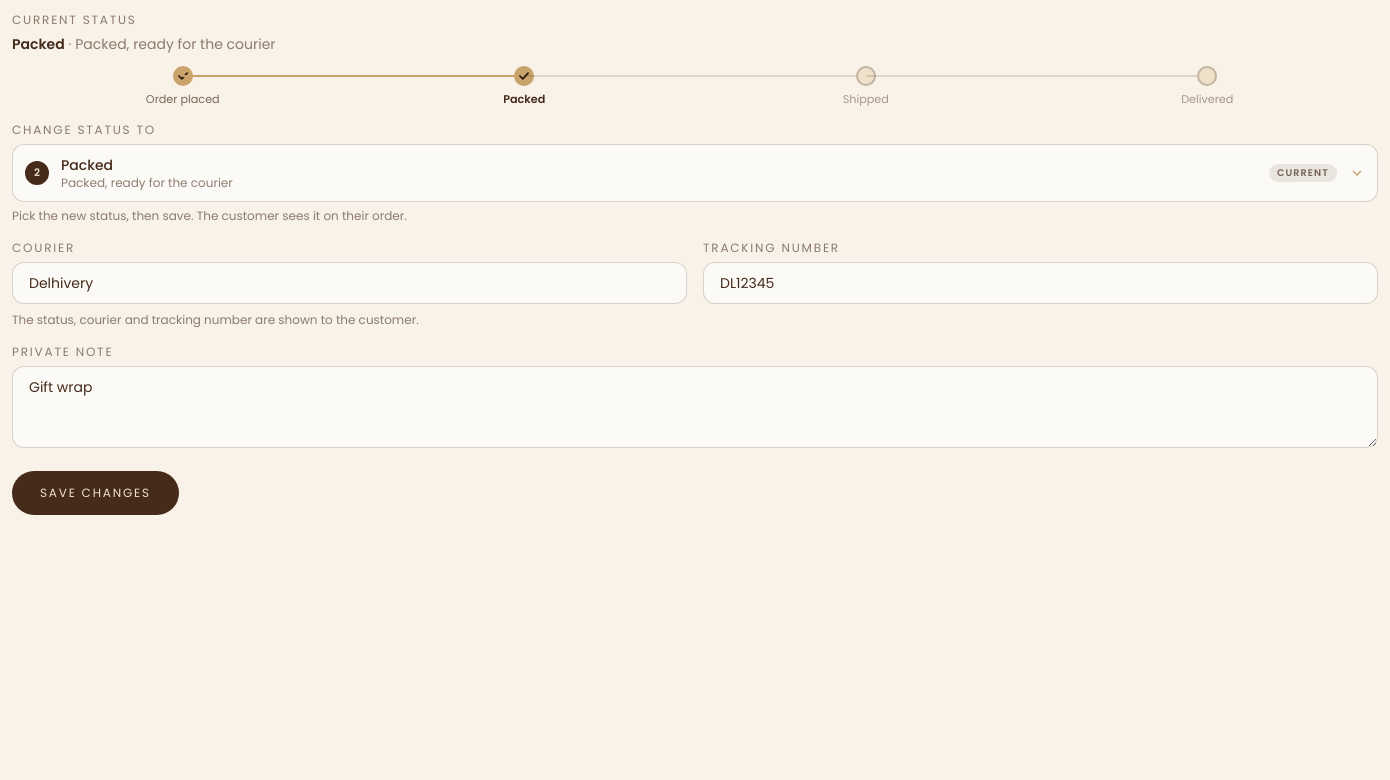
OrderUpdateForm › saving sends every field and says Saved
Step 1. Click the dropdown named "Change status to" → (87, 165), box [12,144,1378,202]
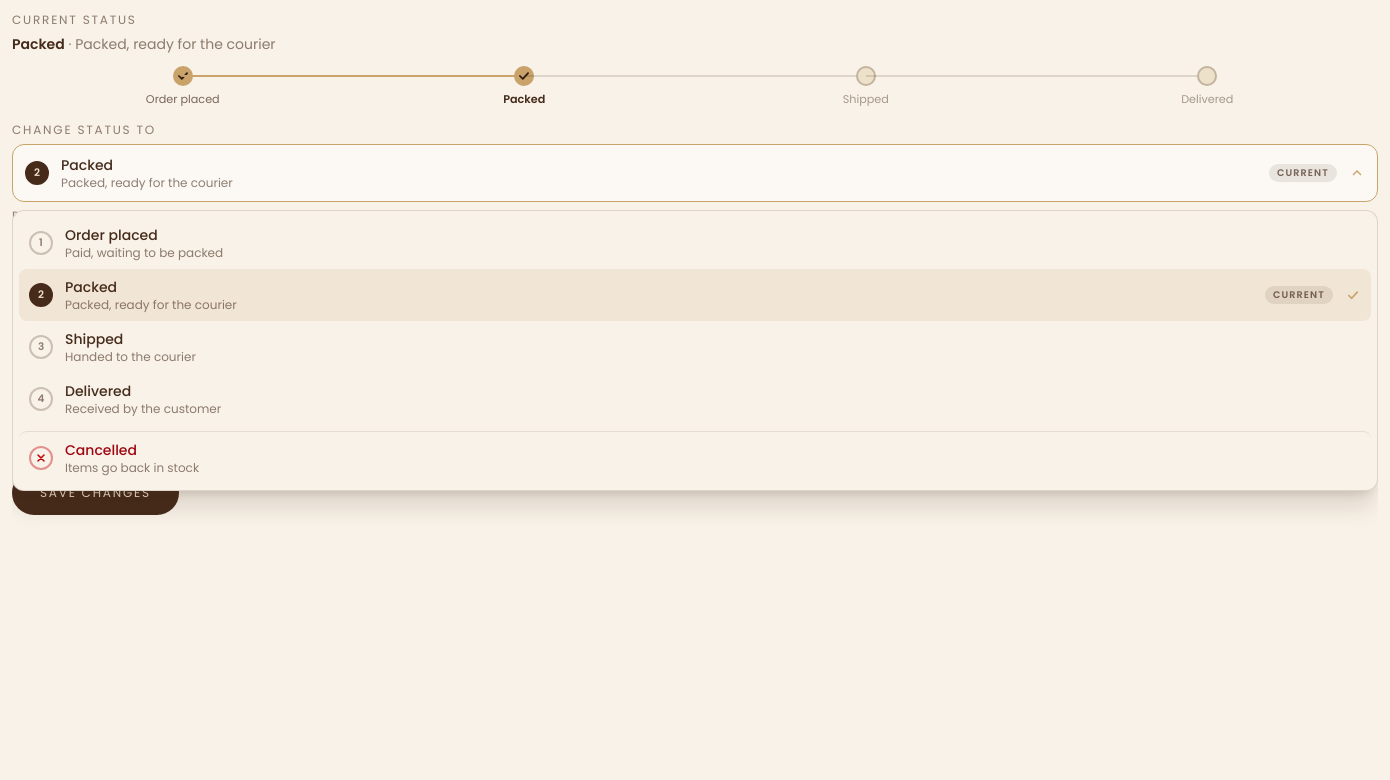
Step 2. Click the option "3 Shipped Handed to the courier" → (112, 347), box [29,329,196,365]
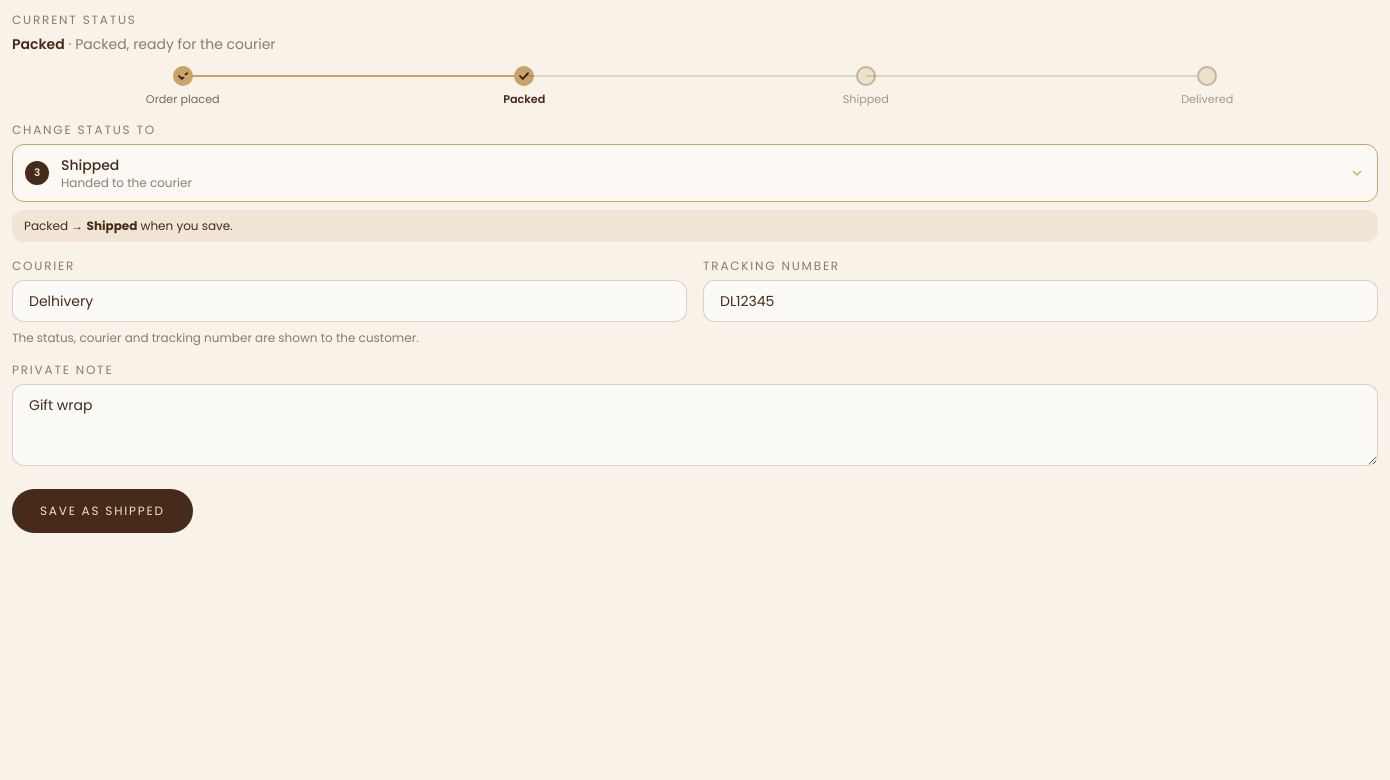
Step 3. Replace the text in the field labelled "Tracking number" with "DL-99887" → (1040, 301), box [703,280,1378,322]
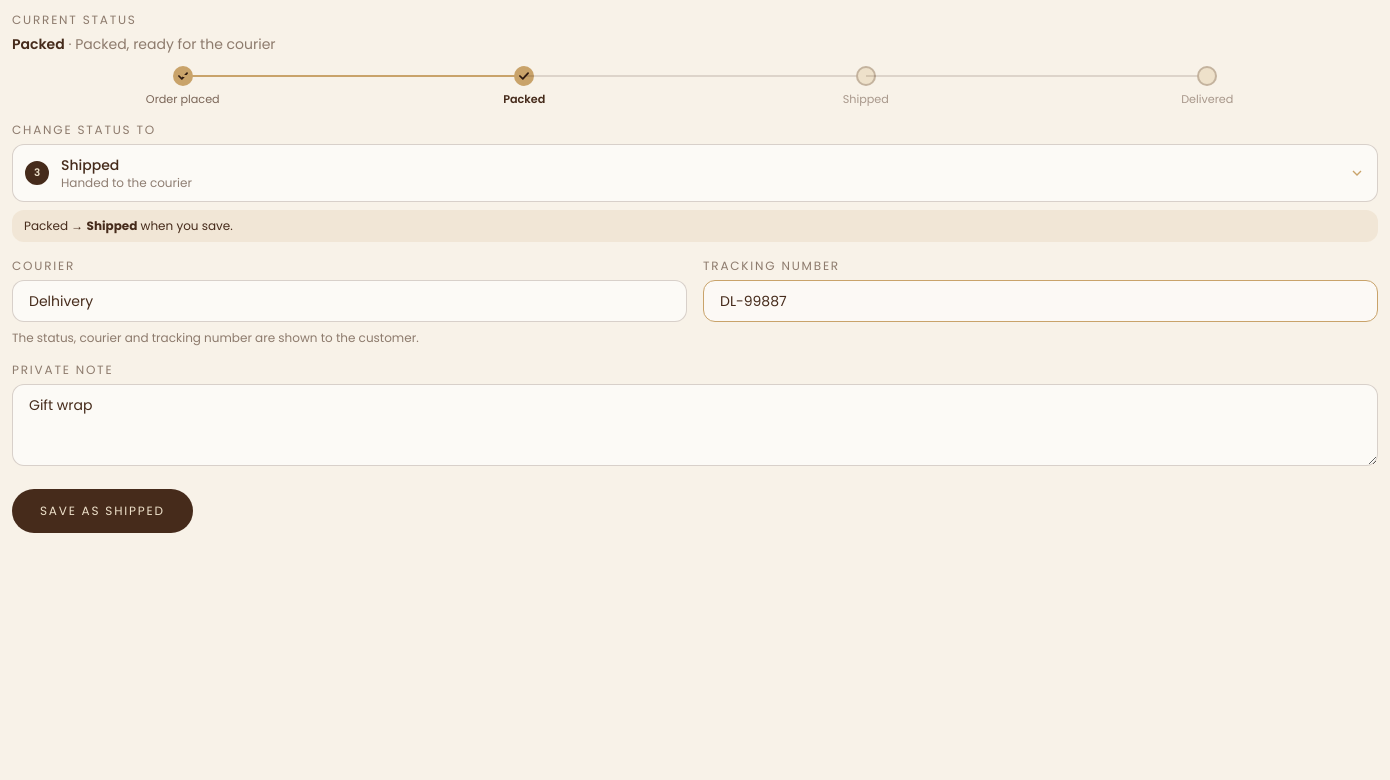
Step 4. Click the button "Save as Shipped" → (102, 511), box [12,489,193,533]
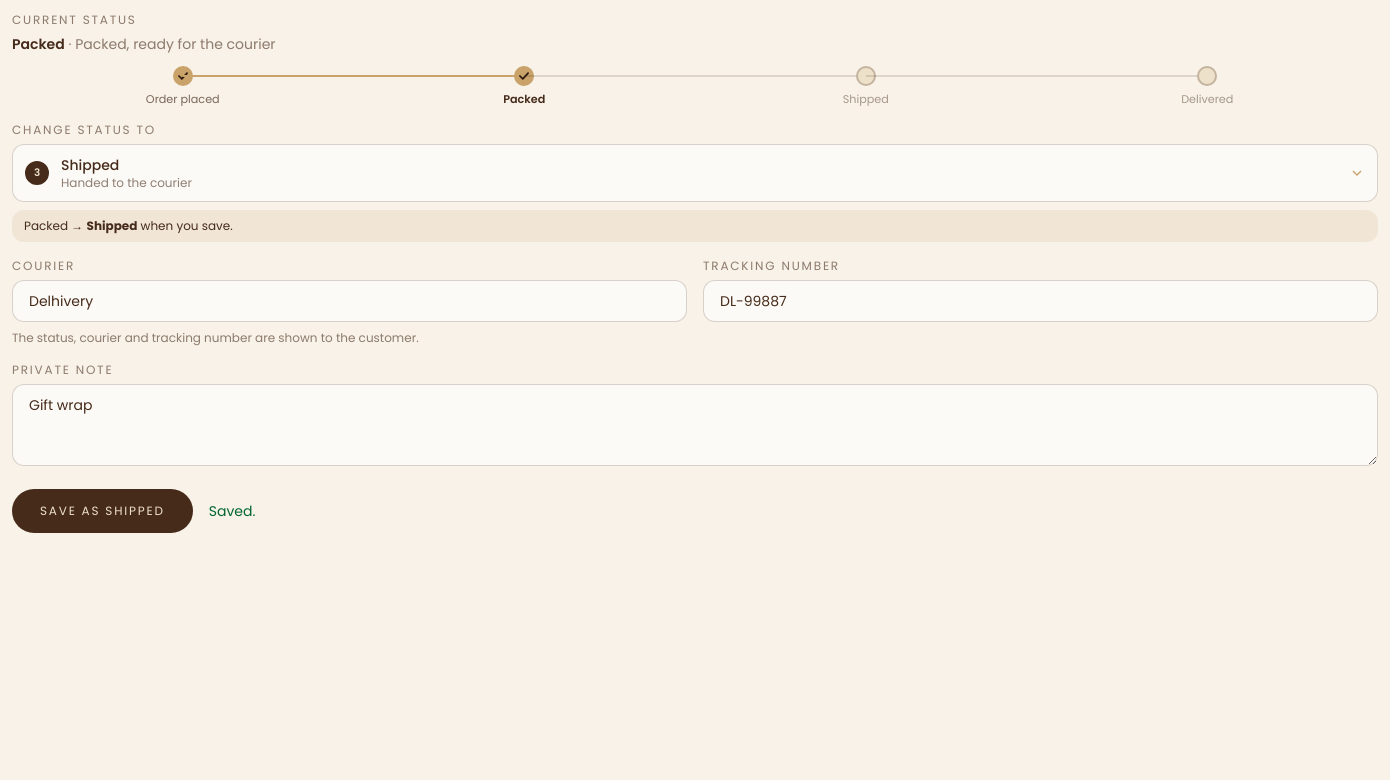
Expected: the message reads "Saved.", [209,501,255,521]
